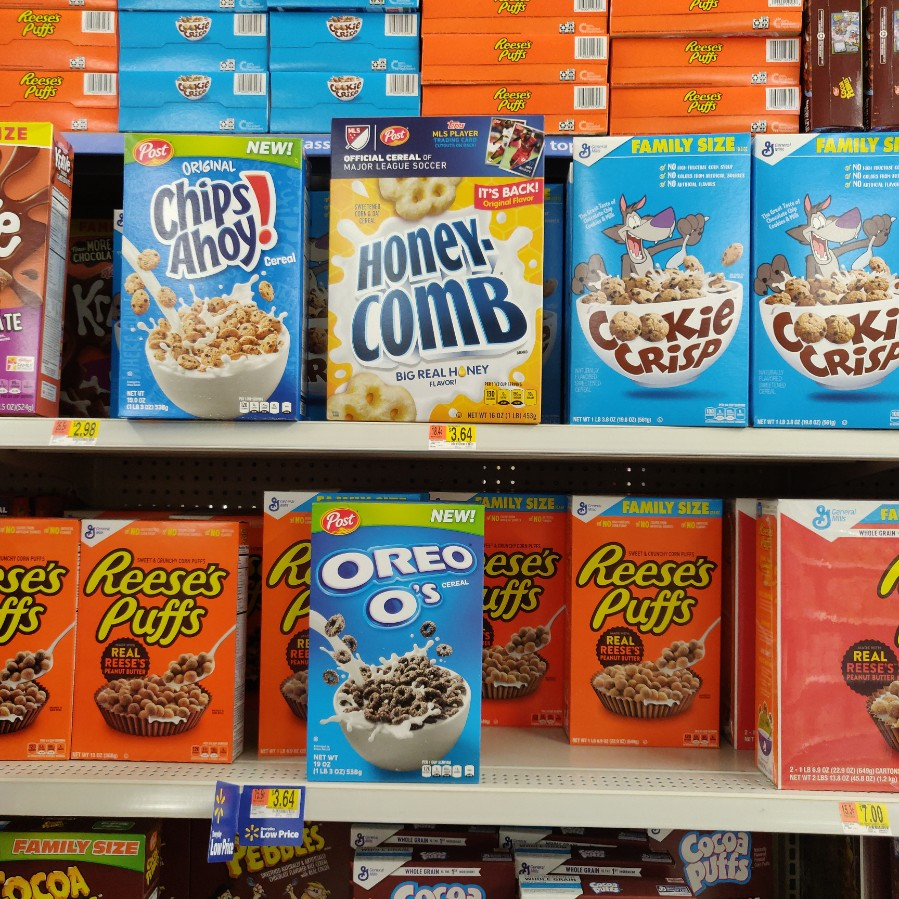Chips Ahoys-565717529: (117, 129, 299, 416)
Honey Comb- 009288857: (329, 115, 541, 421)
Oreo-563424384: (309, 497, 485, 783)
